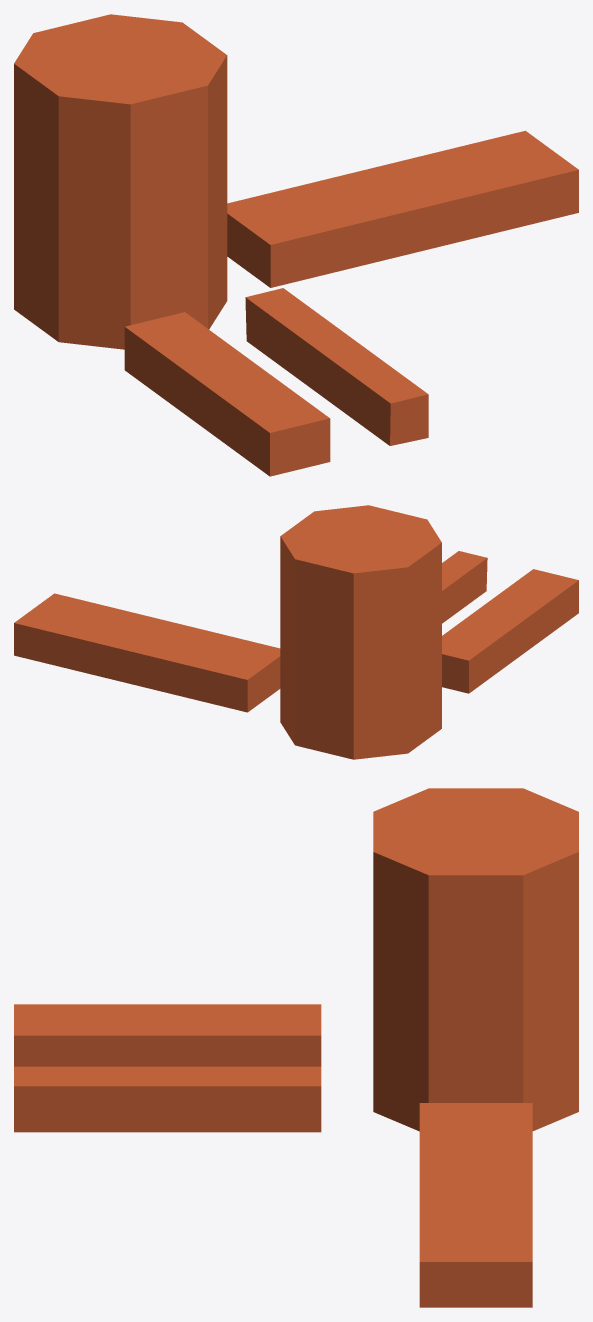
The model's file is tree1_root.fbx.
The picture shows the model from 3 angles, top to bottom: view 1: azimuth 30°, elevation 25°; view 2: azimuth 150°, elevation 25°; view 3: azimuth 270°, elevation 25°; orthographic projection. The views are drawn at different scales.
Parts seen in each view (by area): view 1: Cube; view 2: Cube; view 3: Cube.
Part boxes in pixels (x1=…): Cube: x1=14, y1=14, x2=578, y2=476; Cube: x1=14, y1=505, x2=578, y2=759; Cube: x1=14, y1=788, x2=578, y2=1307.
Bounding box in the file's own units: 612 × 279 × 549.
